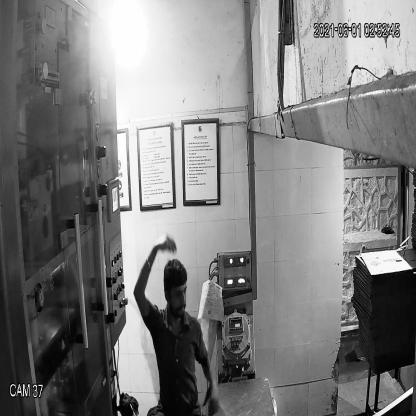no_goggles: (163, 280, 191, 304)
